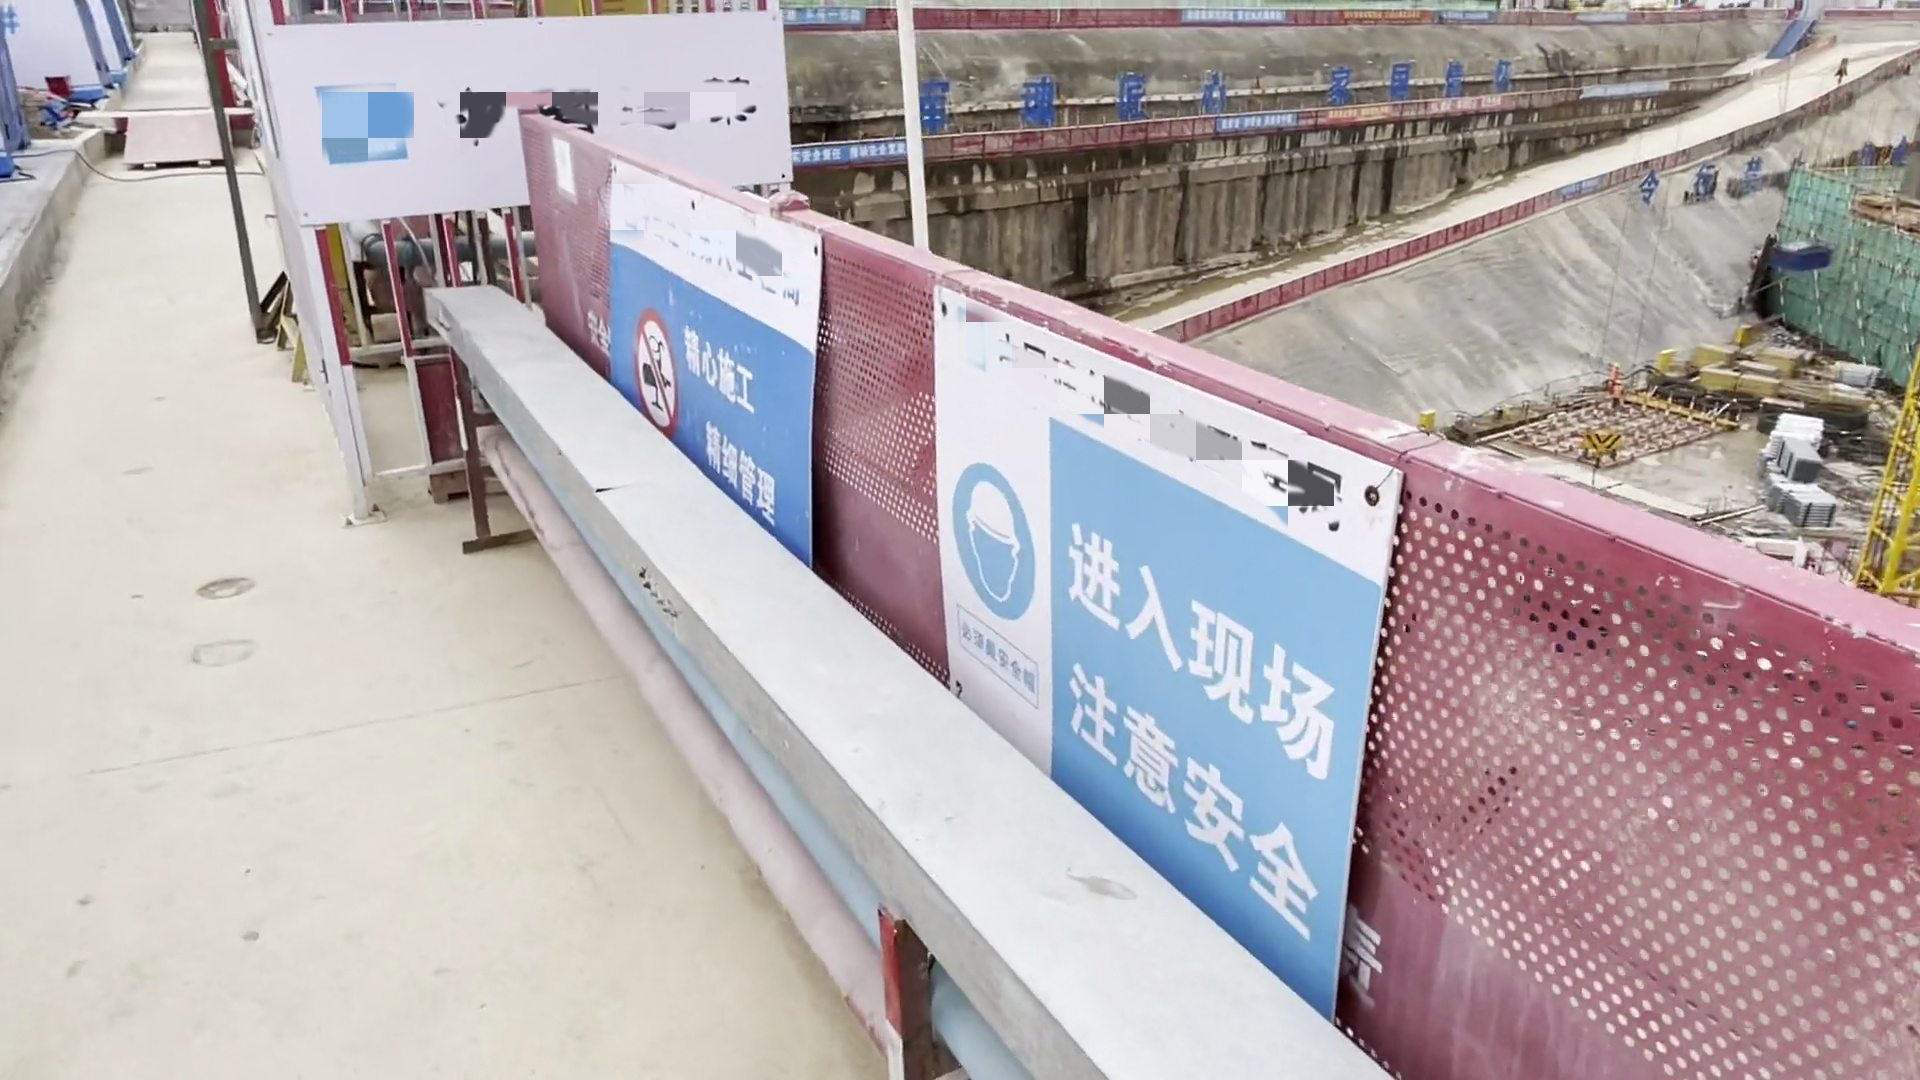board: (111, 107, 233, 179)
fence: (1402, 462, 1917, 1080)
hook: (1580, 427, 1622, 469)
slogan: (916, 286, 1441, 1054), (582, 156, 858, 589), (796, 144, 918, 178)
